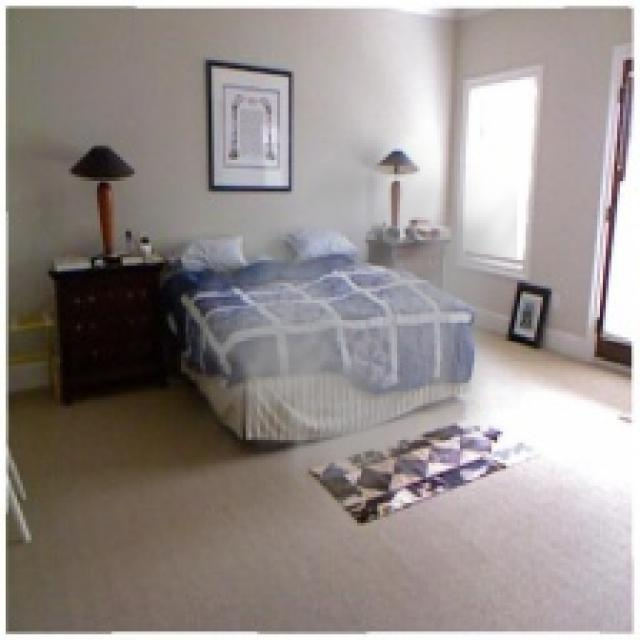smoke: (157, 120, 517, 531)
